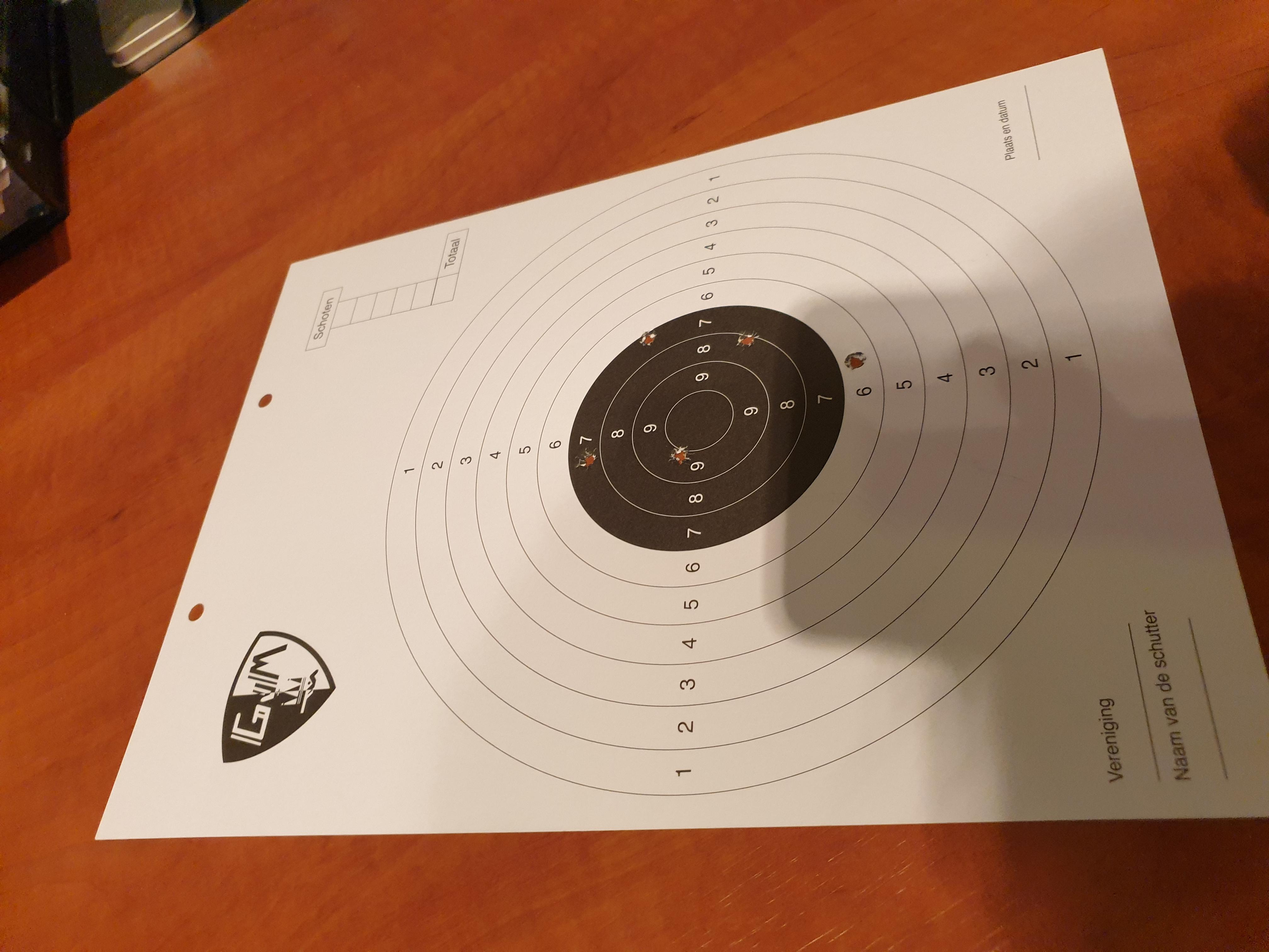hole: (640, 431, 672, 450), (644, 499, 675, 518), (799, 552, 830, 569), (776, 632, 803, 651), (805, 478, 830, 493)
